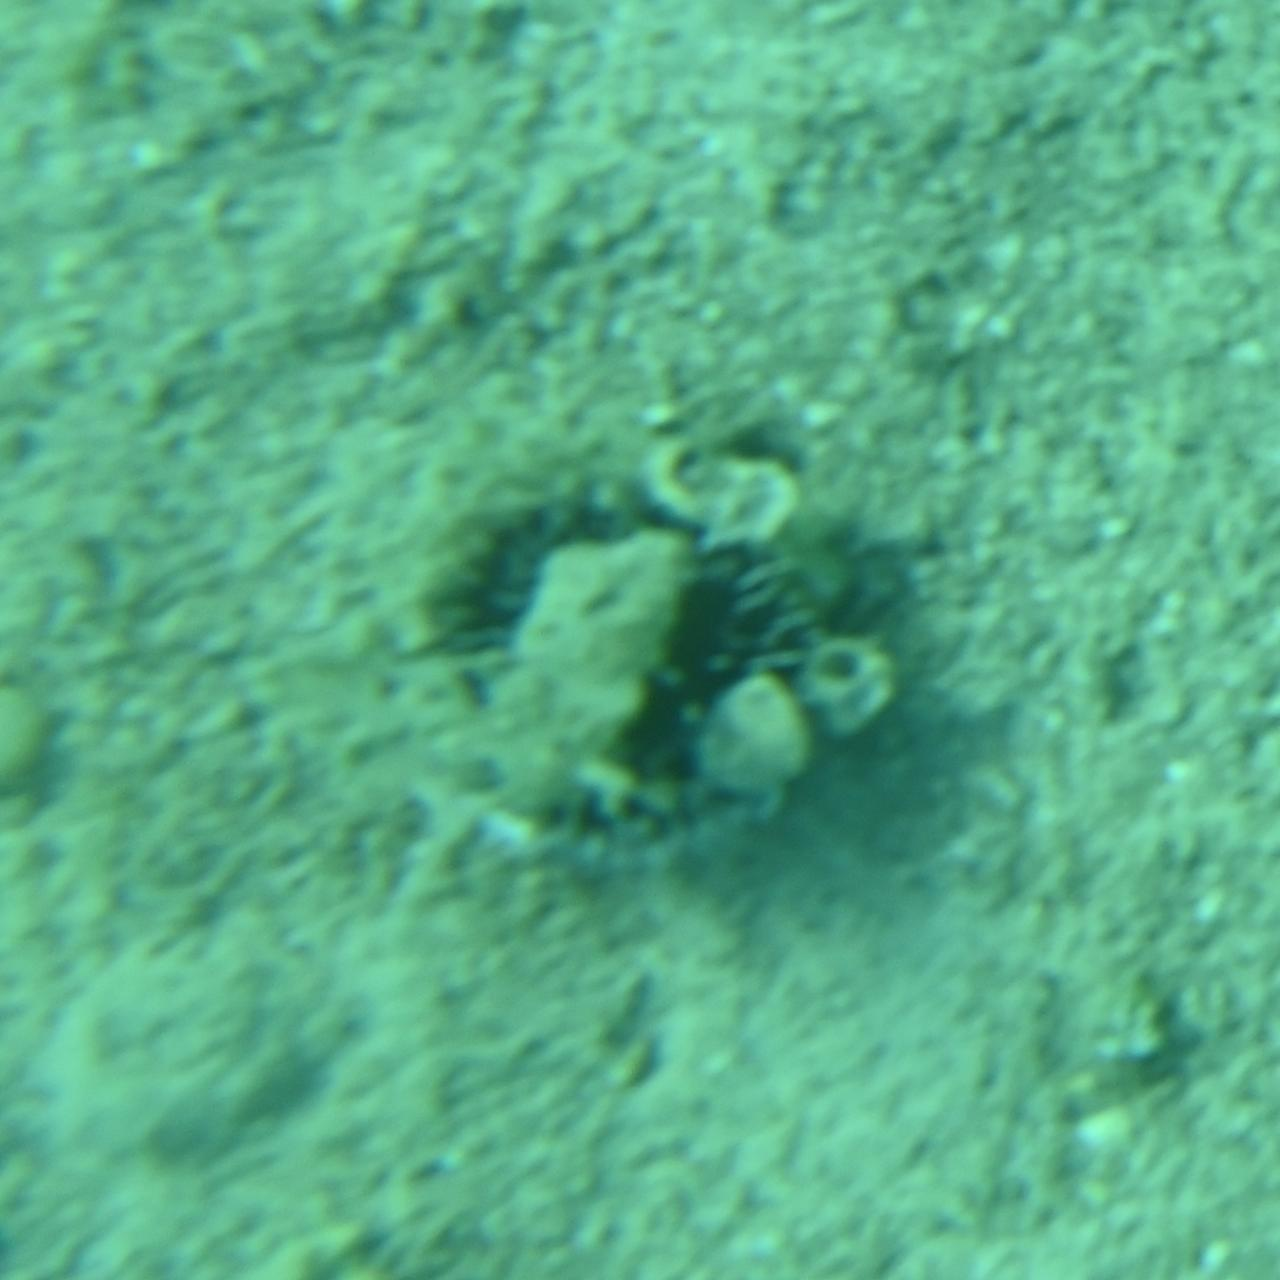Sphaerechinus granularis: (345, 374, 935, 906)
